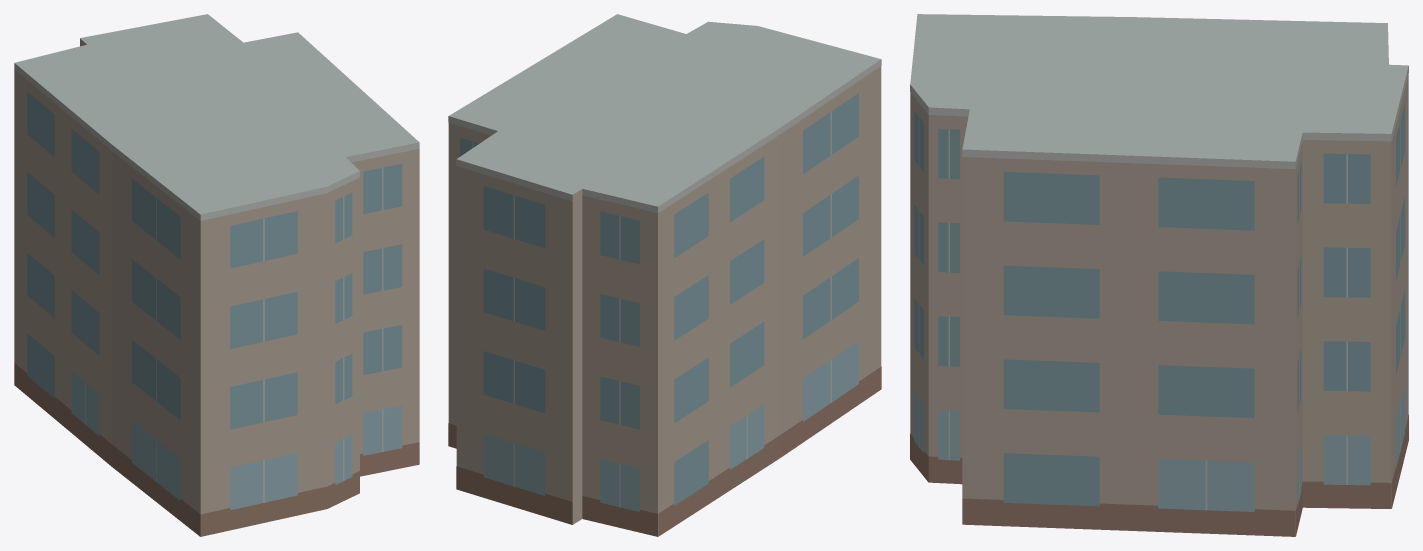
File: survey-upis-32458360.glb
The picture shows the model from 3 angles, left to right: view 1: azimuth 30°, elevation 25°; view 2: azimuth 150°, elevation 25°; view 3: azimuth 270°, elevation 25°; orthographic projection. The views are drawn at different scales.
Visible parts, largest first — view 1: survey-upis-32458360.tmp; view 2: survey-upis-32458360.tmp; view 3: survey-upis-32458360.tmp.
Boxes of the visible parts, bbox=[...] form: survey-upis-32458360.tmp: bbox=[14, 14, 419, 536]; survey-upis-32458360.tmp: bbox=[448, 14, 881, 536]; survey-upis-32458360.tmp: bbox=[910, 14, 1408, 536].
Size of the model in its own units: 10.4 by 12.3 by 14.83.
